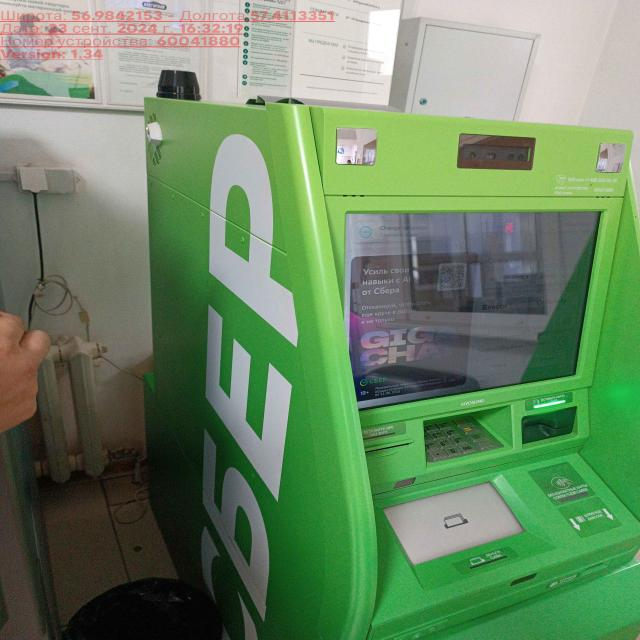bank: (137, 93, 640, 640)
